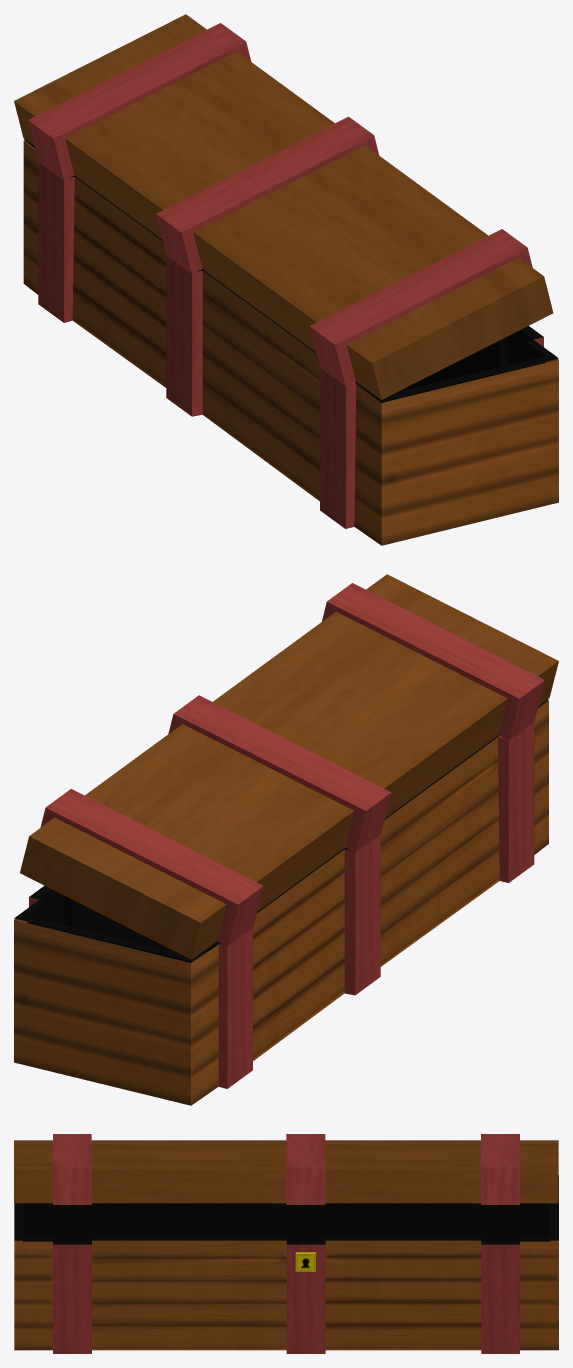
The model's file is CajaAbierta.fbx.
3 views of the same model, one above another, from view 1: azimuth 30°, elevation 25°; view 2: azimuth 150°, elevation 25°; view 3: azimuth 270°, elevation 25° (orthographic). The views are drawn at different scales.
Parts seen in each view (by area): view 1: Caja_Abierta; view 2: Caja_Abierta; view 3: Caja_Abierta.
Part boxes in pixels (x1,y1,x2,y2): Caja_Abierta: (14, 14, 558, 545); Caja_Abierta: (14, 574, 558, 1105); Caja_Abierta: (14, 1134, 558, 1353).
Size of the model in its own units: 192 by 205 by 560.
